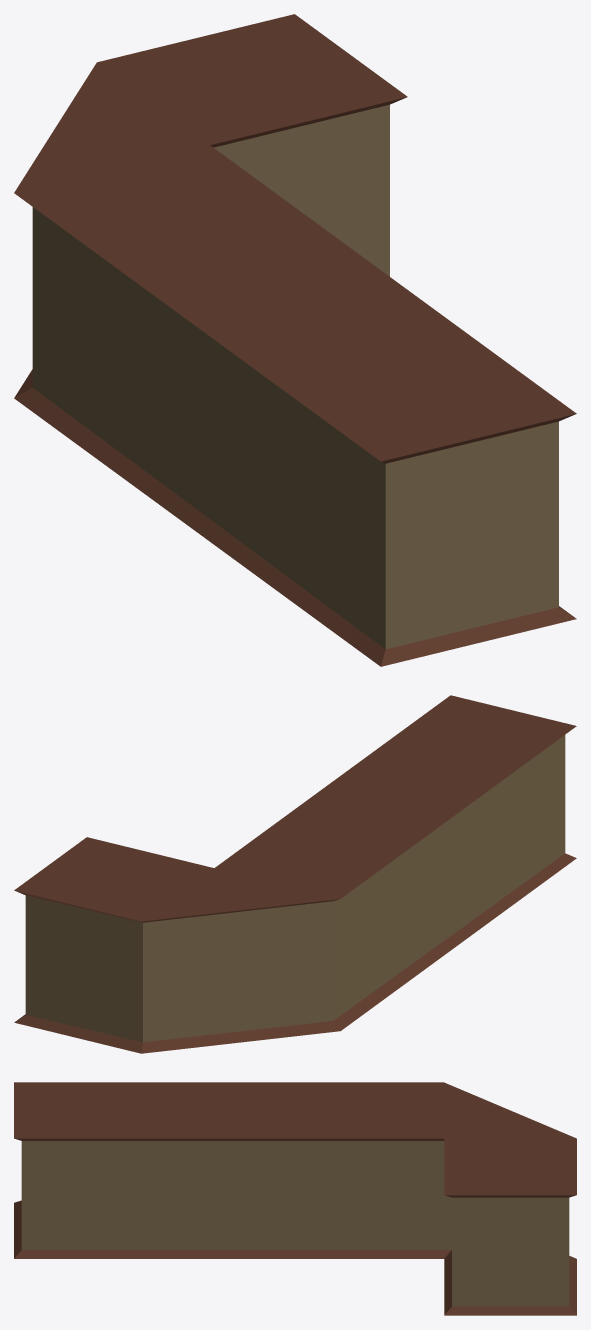
Rendered from Counter.fbx.
3 views of the same model, one above another, from view 1: azimuth 30°, elevation 25°; view 2: azimuth 150°, elevation 25°; view 3: azimuth 270°, elevation 25° (orthographic). The views are drawn at different scales.
Parts seen in each view (by area): view 1: Counter; view 2: Counter; view 3: Counter.
Boxes of the visible parts, box(x1,y1,x2,y2) form: Counter: box(14, 14, 576, 666); Counter: box(14, 695, 576, 1053); Counter: box(14, 1082, 576, 1315).
Size of the model in its own units: 402 by 200 by 848.
